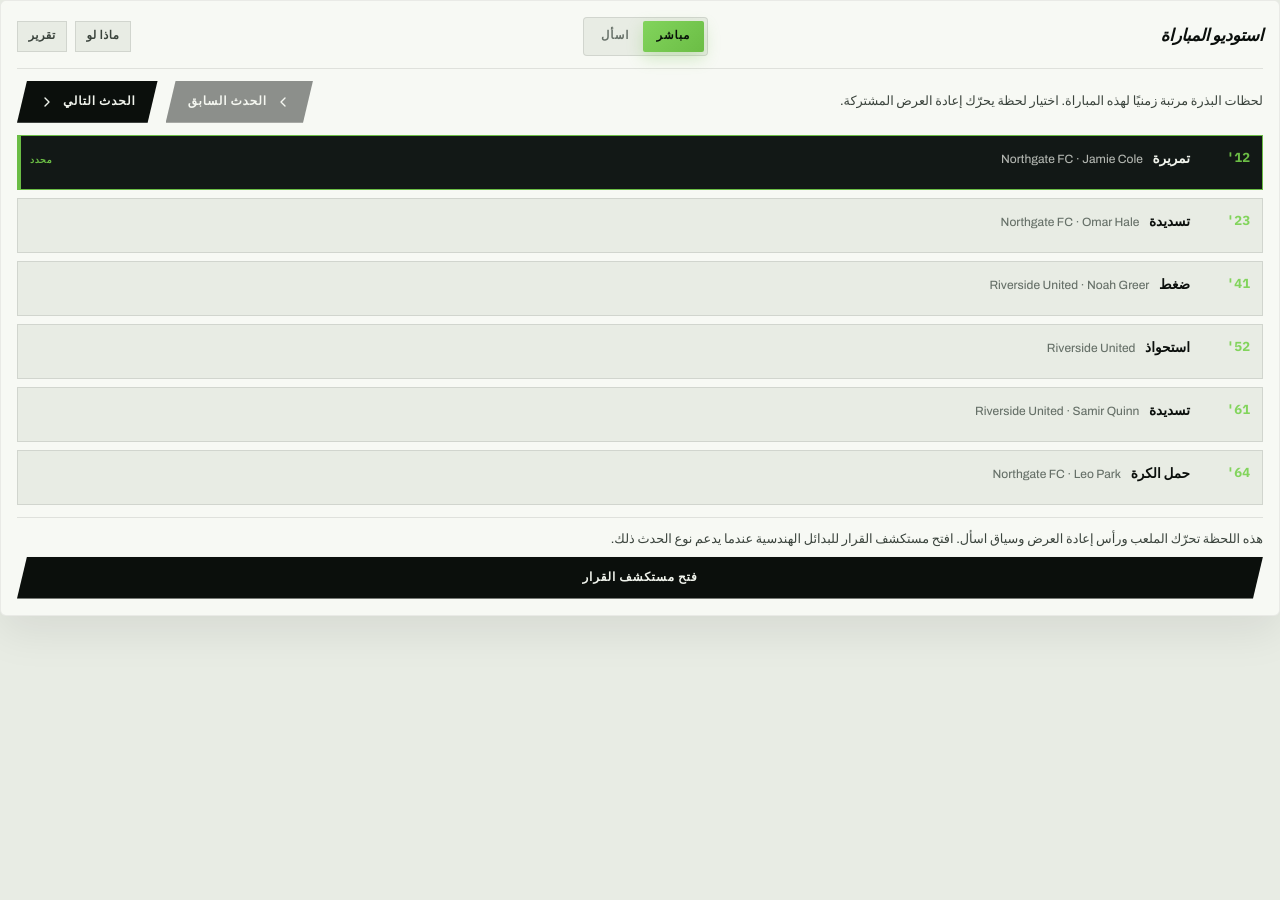
it: MatchStudioPanel › renders Arabic ASK crew heading and narrative in RTL locale
The image size is (1280, 900).
Expected: the tab "مباشر" is shown, [643,21,704,52]
Click the tab "اسأل".
click(615, 36)  # box [587,21,643,52]
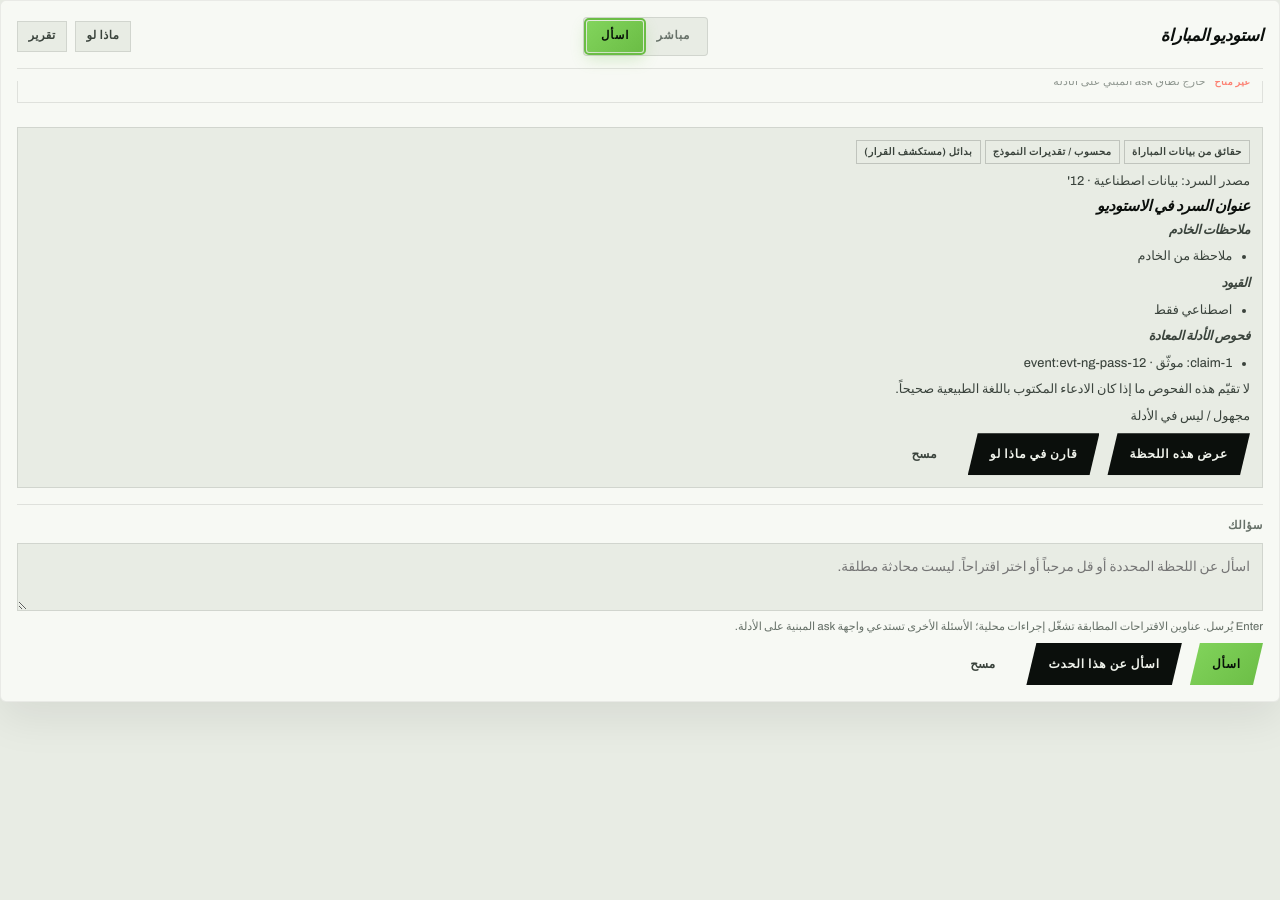
Expected: the heading "عنوان السرد في الاستوديو" is shown, [1097,198,1250,214]
